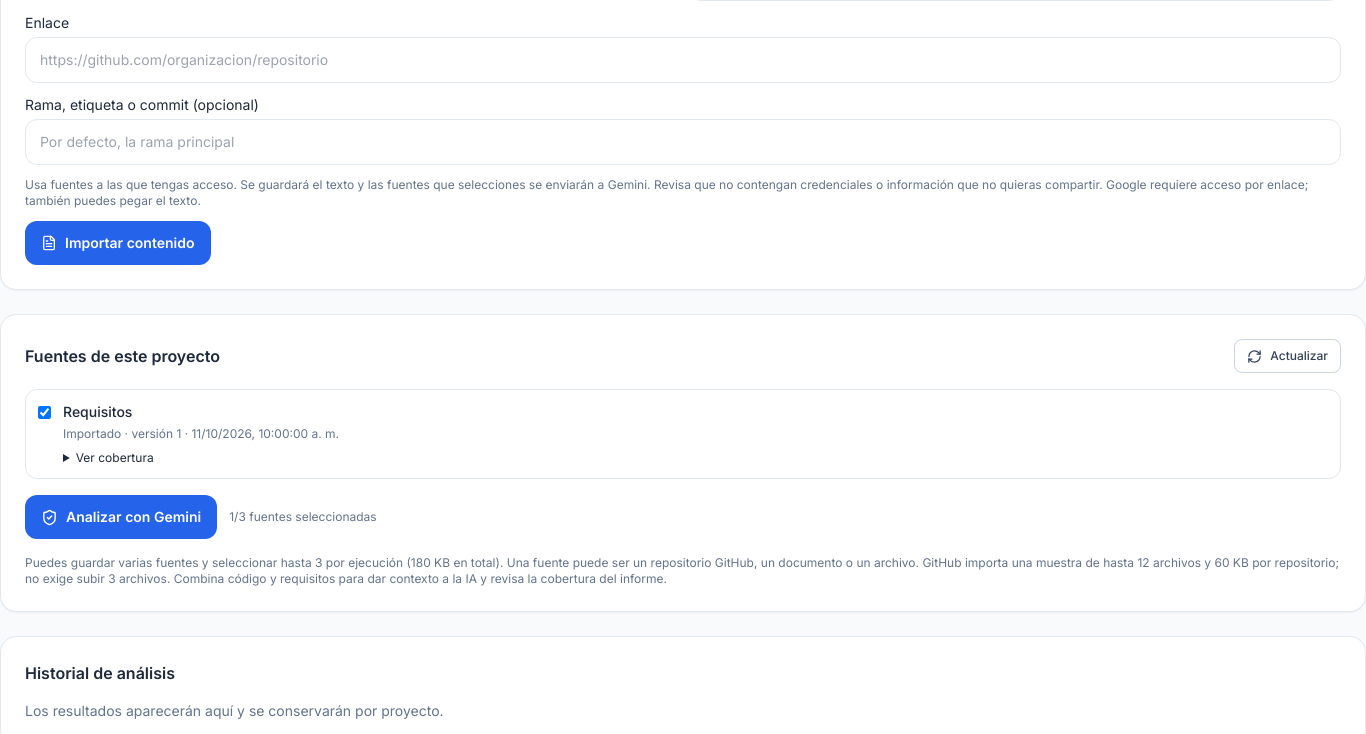
módulo de proyectos › mantiene el error del servidor y no inventa un informe
(page scrolled)
Check: the checkbox named "Analizar Requisitos" is shown, box [38,406,51,419]
Click the button "Analizar con Gemini": (121, 517) [25,495,217,539]
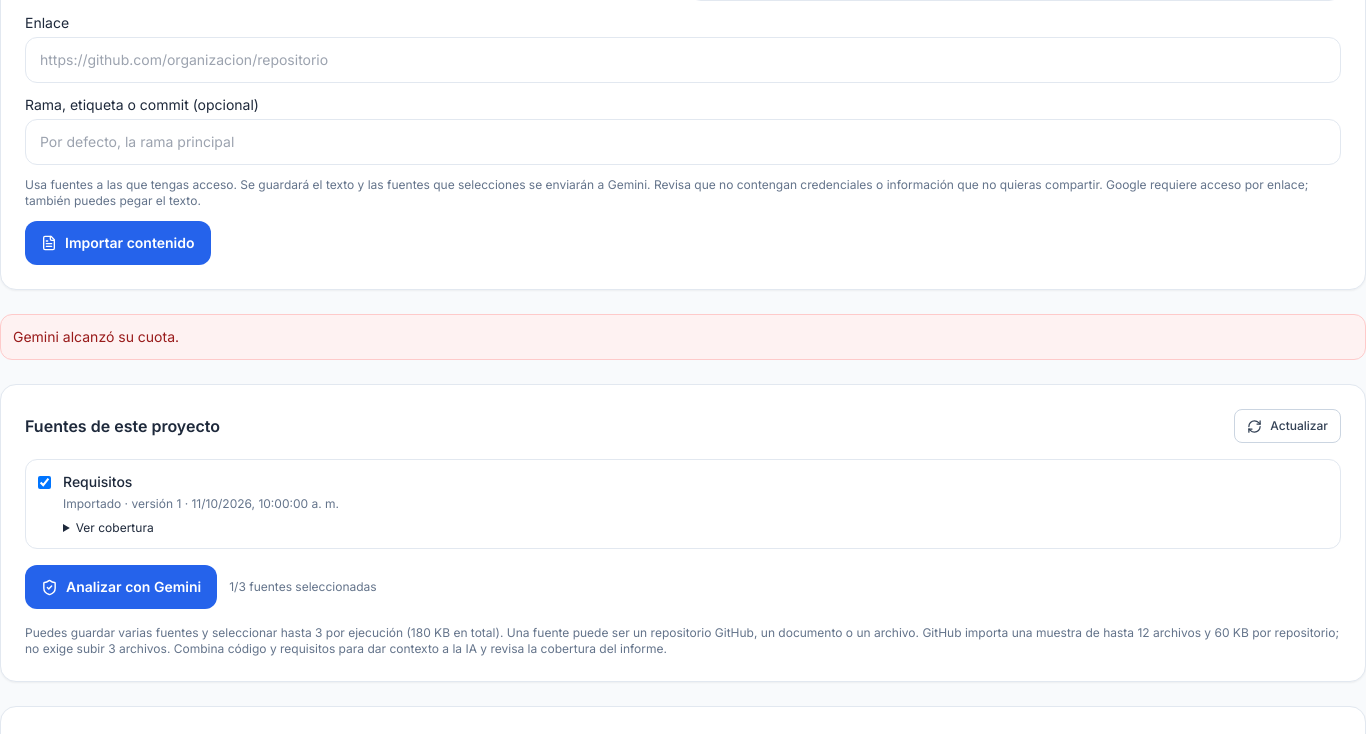
Check: the message reads "Gemini alcanzó su cuota.", box [13,328,179,345]
